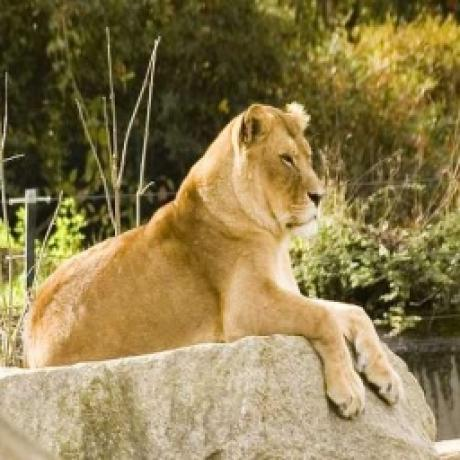Lion: (23, 102, 402, 418)
